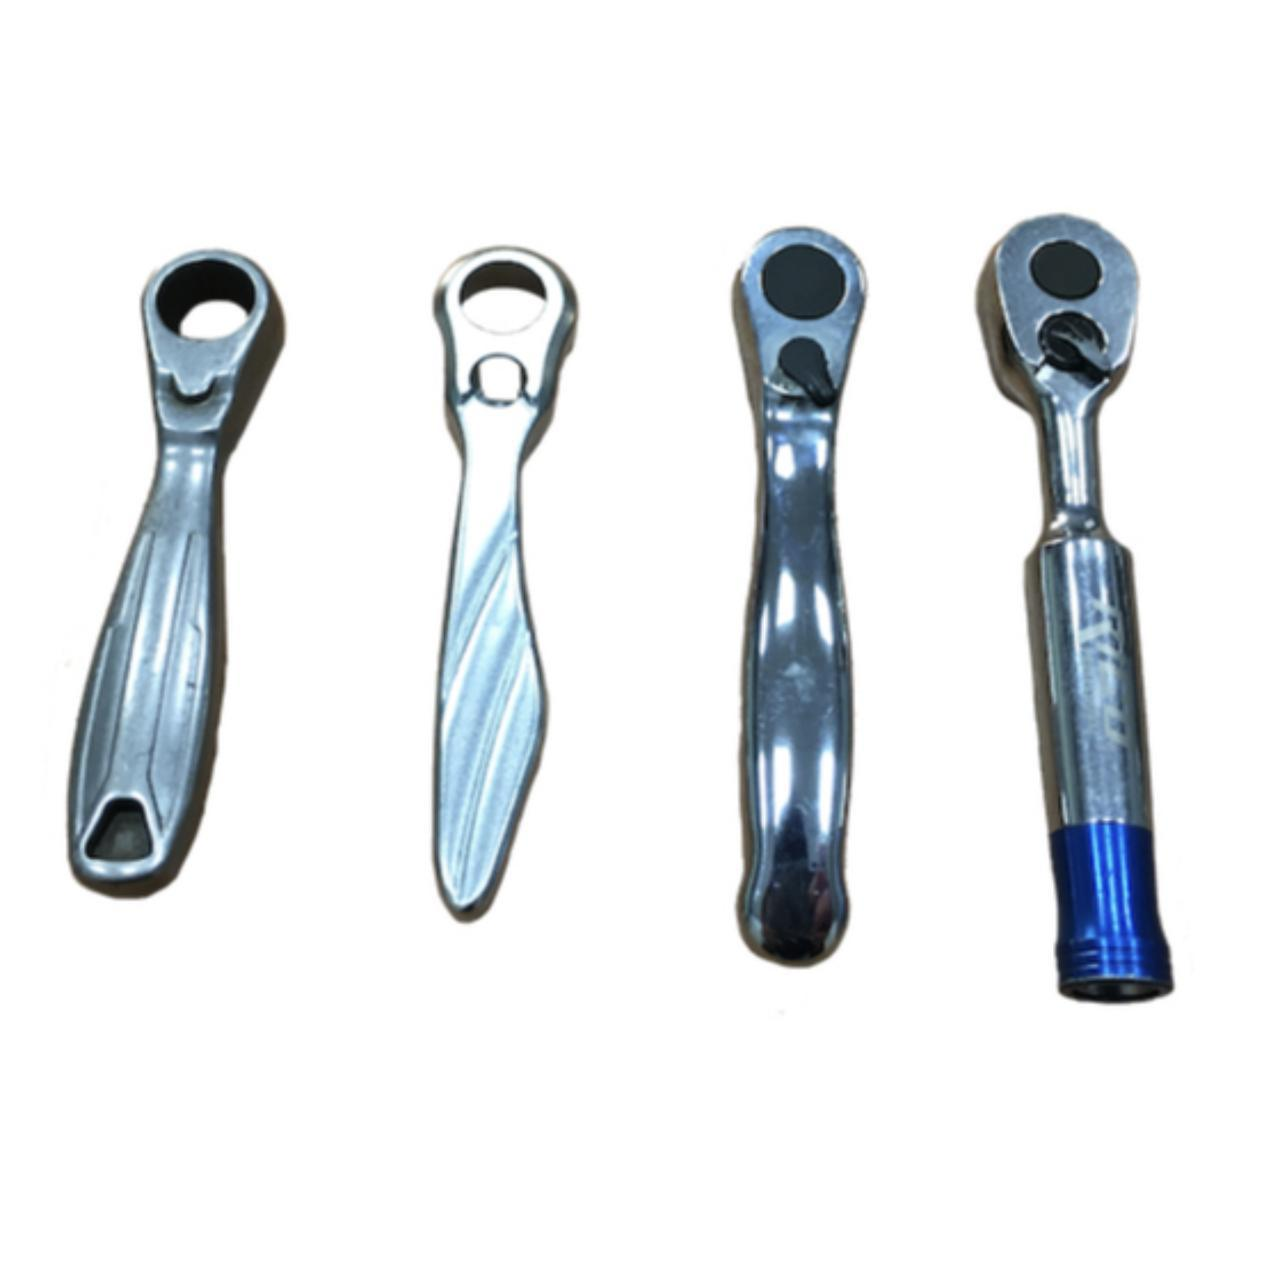Tool: (967, 211, 1164, 420), (729, 225, 871, 423)
